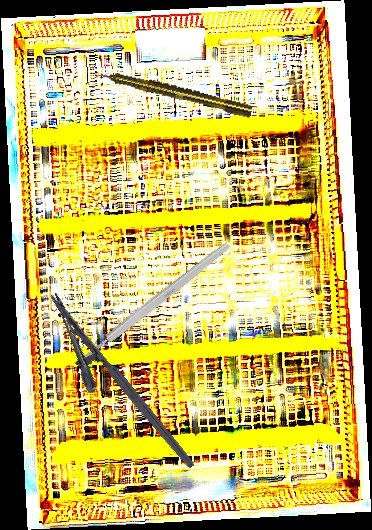Handpiece: (93, 65, 254, 120)
Needle Holder: (25, 290, 197, 489)
Scalpel Handle: (80, 240, 232, 363)
